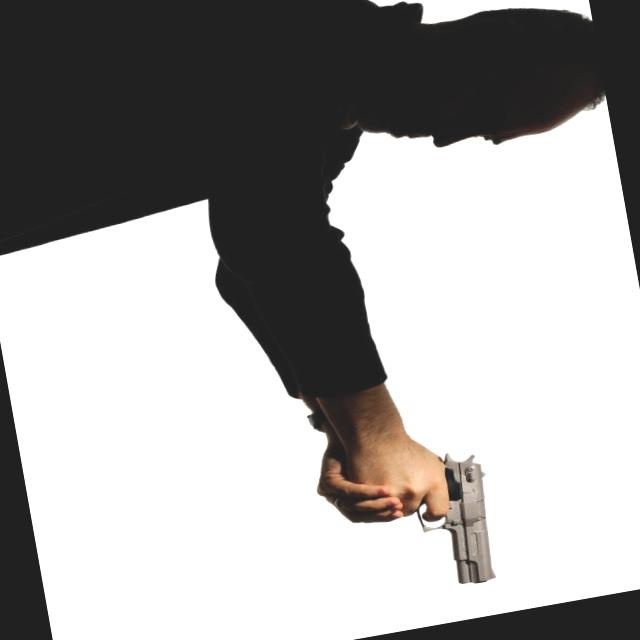handgun: (396, 444, 506, 594)
